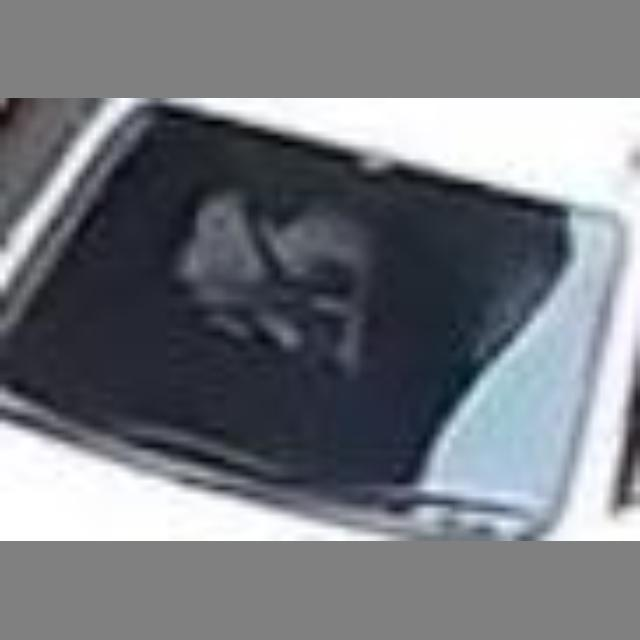pakai: (155, 168, 366, 379)
